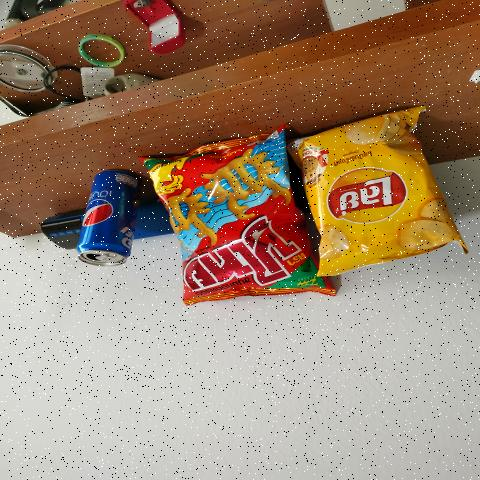pepsi_blue: (74, 166, 139, 273)
